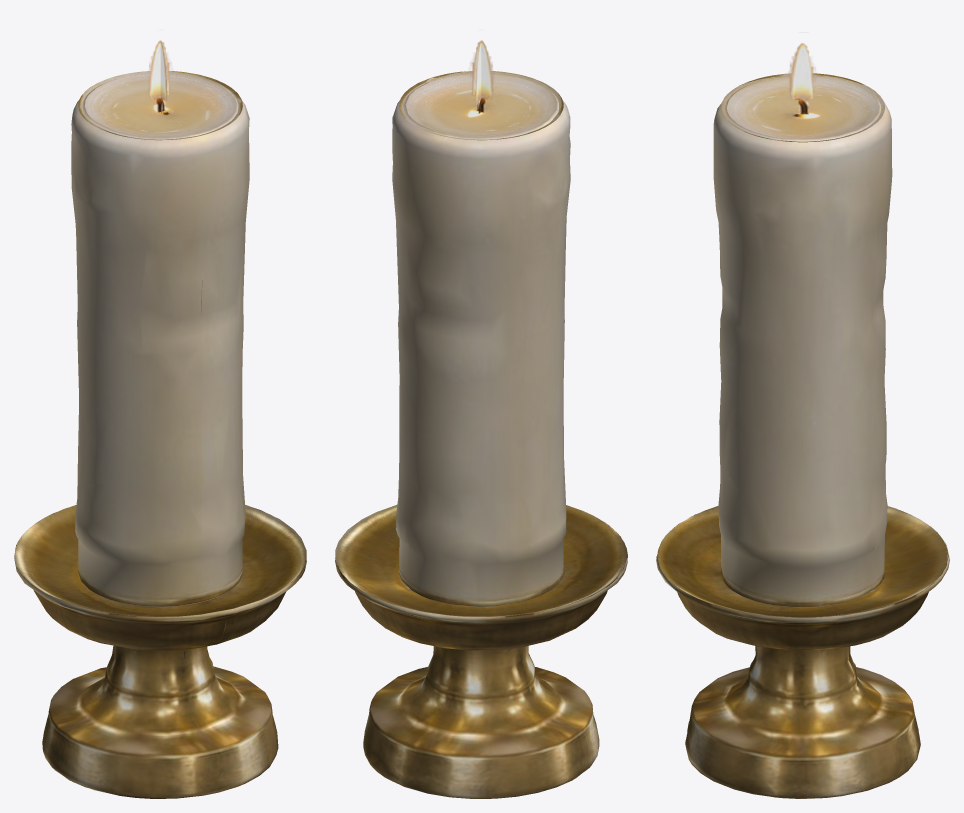
Rendered from candle.glb.
The picture shows the model from 3 angles, left to right: view 1: azimuth 30°, elevation 25°; view 2: azimuth 150°, elevation 25°; view 3: azimuth 270°, elevation 25°; orthographic projection.
Parts seen in each view (by area): view 1: Candle, Holder, Holder_Bowl, Candle_Top, Flame_F; view 2: Candle, Holder, Holder_Bowl, Candle_Top, Flame_F; view 3: Candle, Holder, Holder_Bowl, Candle_Top, Flame_S.
Boxes of the visible parts, x1,y1,x2,y2 form: Candle: (71, 73, 249, 606); Holder: (14, 505, 306, 798); Holder_Bowl: (14, 505, 306, 616); Candle_Top: (78, 71, 242, 140); Flame_F: (147, 40, 172, 112); Candle: (392, 73, 570, 606); Holder: (335, 505, 627, 798); Holder_Bowl: (335, 505, 627, 616); Candle_Top: (399, 71, 563, 140); Flame_F: (469, 40, 494, 112); Candle: (713, 76, 892, 607); Holder: (656, 506, 949, 798); Holder_Bowl: (657, 506, 948, 617); Candle_Top: (721, 73, 884, 142); Flame_S: (788, 43, 816, 114).
Size of the model in its own units: 0.1103 by 0.2992 by 0.1111.
5 materials, 5 textured.
